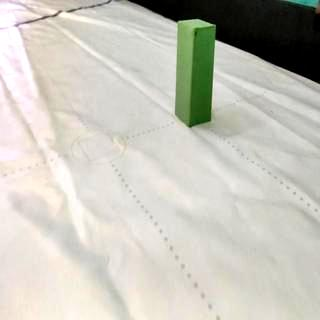greenbox: (175, 18, 218, 130)
